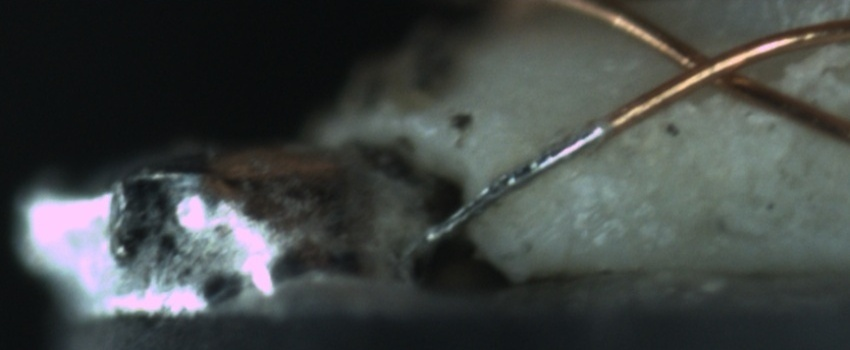CL: (655, 34, 766, 102)
TS: (419, 117, 614, 246)
TTCW: (422, 97, 634, 243)
